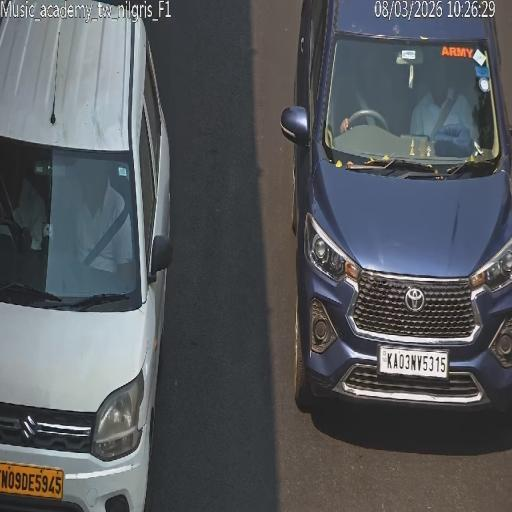person_with_seatbelt: (80, 211, 129, 270), (0, 180, 30, 249), (430, 80, 462, 137), (350, 76, 378, 130)
